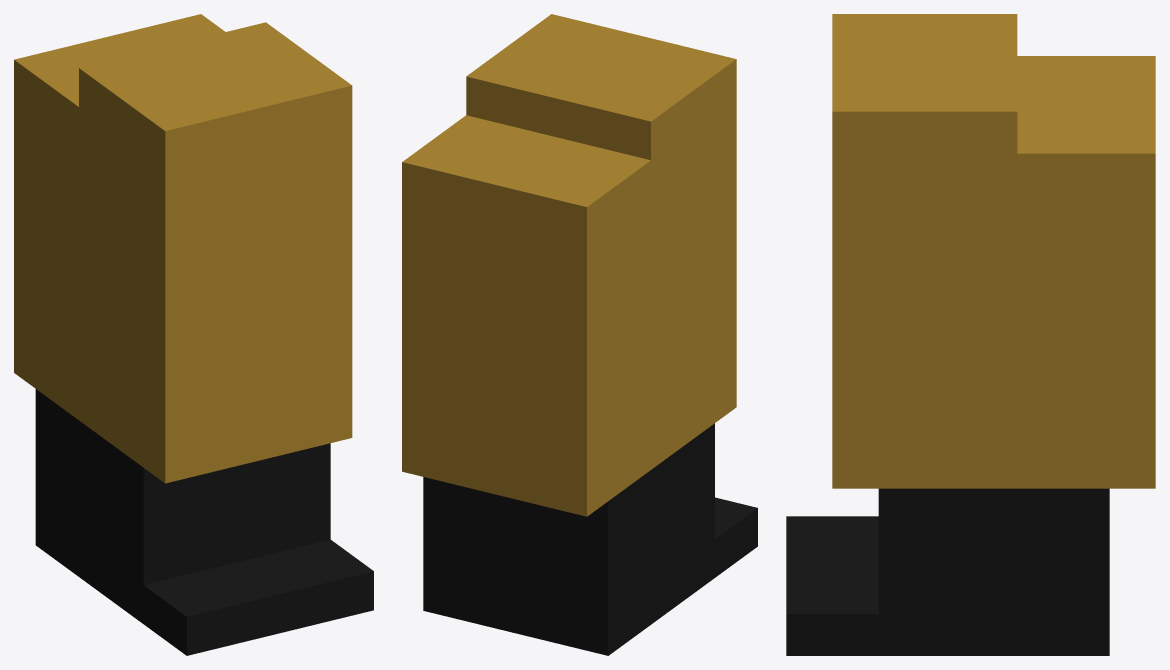
The model's file is hitler-1.obj.
3 views of the same model, side by side, from view 1: azimuth 30°, elevation 25°; view 2: azimuth 150°, elevation 25°; view 3: azimuth 270°, elevation 25° (orthographic). The views are drawn at different scales.
Size of the model in its own units: 0.5 by 1.3 by 0.8.
1 material, 1 textured.
